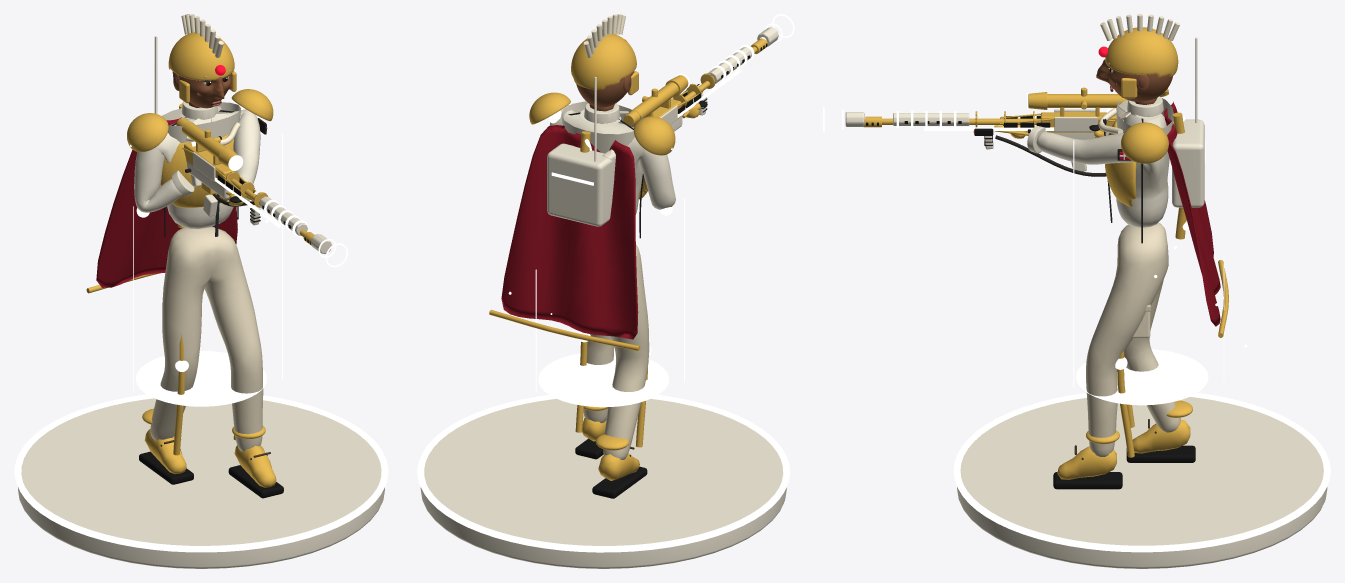
The model's file is skytte_guld.glb.
3 views of the same model, side by side, from view 1: azimuth 30°, elevation 25°; view 2: azimuth 150°, elevation 25°; view 3: azimuth 270°, elevation 25° (orthographic).
Visible parts, largest first — view 1: fod_net, menneske_net, op2_net, hoved_net, op4.002_net, vaaben_net, op3_net, op4.001_net, op4_net, op2.001_net; view 2: fod_net, op2_net, menneske_net, op3.001_net, op4.002_net, hoved_net, vaaben_net, op4_net, op3_net, op4.001_net; view 3: fod_net, menneske_net, op2_net, hoved_net, op4.002_net, vaaben_net, op3.001_net, op3_net, op4_net, op1_net, op4.001_net, op2.001_net.
Boxes of the visible parts, x1,y1,x2,y2 form: fod_net: [14, 394, 388, 568]; menneske_net: [134, 101, 283, 498]; op2_net: [86, 89, 273, 293]; hoved_net: [168, 14, 236, 108]; op4.002_net: [130, 134, 282, 406]; vaaben_net: [176, 117, 314, 245]; op3_net: [191, 141, 332, 253]; op4.001_net: [175, 108, 347, 267]; op4_net: [136, 103, 245, 455]; op2.001_net: [182, 148, 260, 225]; fod_net: [417, 395, 790, 568]; op2_net: [489, 92, 675, 350]; menneske_net: [549, 100, 707, 498]; op3.001_net: [547, 77, 614, 226]; op4.002_net: [508, 147, 684, 407]; hoved_net: [571, 14, 638, 107]; vaaben_net: [602, 38, 767, 170]; op4_net: [548, 110, 672, 447]; op3_net: [660, 27, 778, 124]; op4.001_net: [584, 14, 794, 150]; fod_net: [953, 392, 1330, 568]; menneske_net: [1003, 96, 1195, 489]; op2_net: [1098, 88, 1228, 337]; hoved_net: [1096, 14, 1179, 101]; op4.002_net: [1073, 140, 1247, 405]; vaaben_net: [864, 87, 1173, 139]; op3.001_net: [1172, 37, 1205, 207]; op3_net: [845, 108, 1110, 131]; op4_net: [1115, 112, 1188, 457]; op1_net: [995, 116, 1106, 176]; op4.001_net: [823, 106, 1185, 132]; op2.001_net: [973, 111, 1115, 171].
Size of the model in its own units: 1.94 by 2.7 by 2.6.
